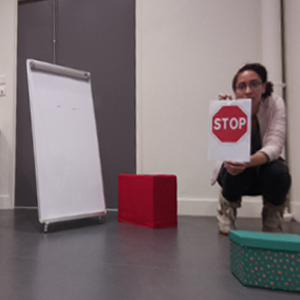stop: (211, 104, 249, 144)
